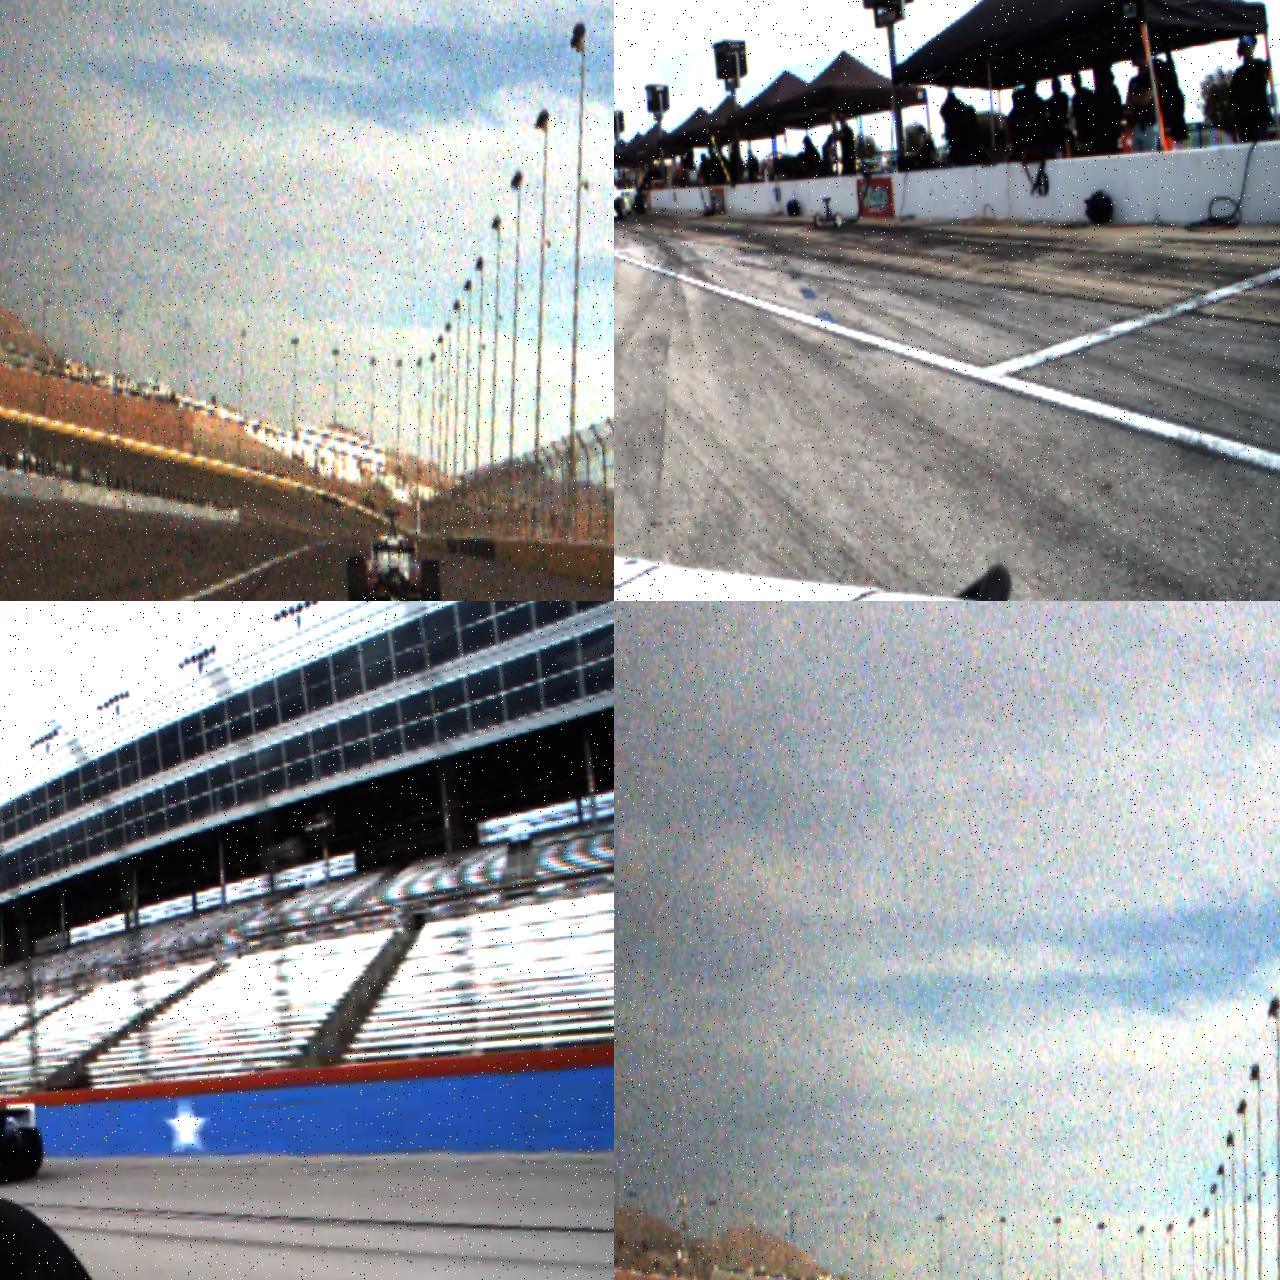AV: (342, 506, 443, 601), (614, 176, 648, 223)
Wheel: (7, 1125, 45, 1182), (345, 556, 369, 601), (421, 558, 442, 601), (635, 195, 646, 215), (617, 198, 626, 218)
